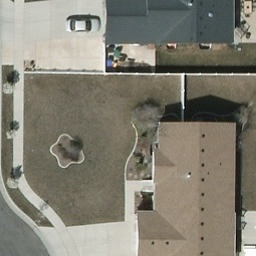car: (65, 19, 101, 34)
